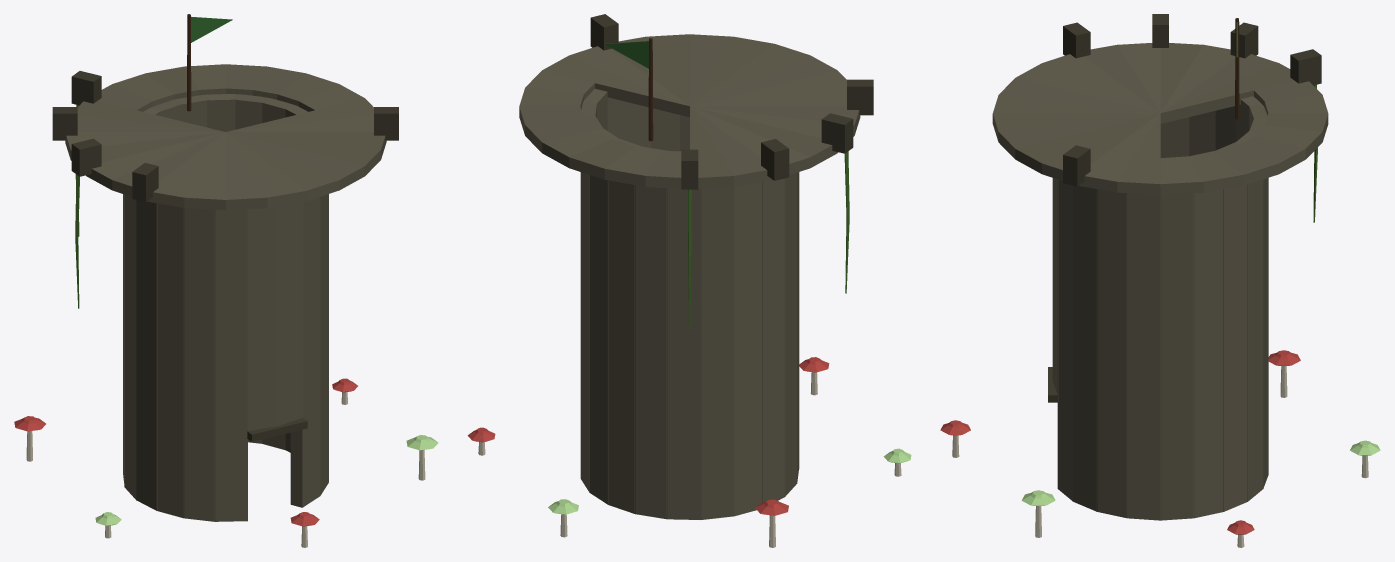
File: tower_forest_hollow.glb
3 renders of one model, left to right at view 1: azimuth 30°, elevation 25°; view 2: azimuth 150°, elevation 25°; view 3: azimuth 270°, elevation 25°, orthographic. The views are drawn at different scales.
Parts seen in each view (by area): view 1: tower_forest_hollow; view 2: tower_forest_hollow; view 3: tower_forest_hollow.
Part boxes in pixels (<box>): tower_forest_hollow: <box>14,14,438,547</box>; tower_forest_hollow: <box>467,14,911,547</box>; tower_forest_hollow: <box>940,14,1380,547</box>.
Bounding box in the file's own units: 16.94 × 21 × 18.37.
